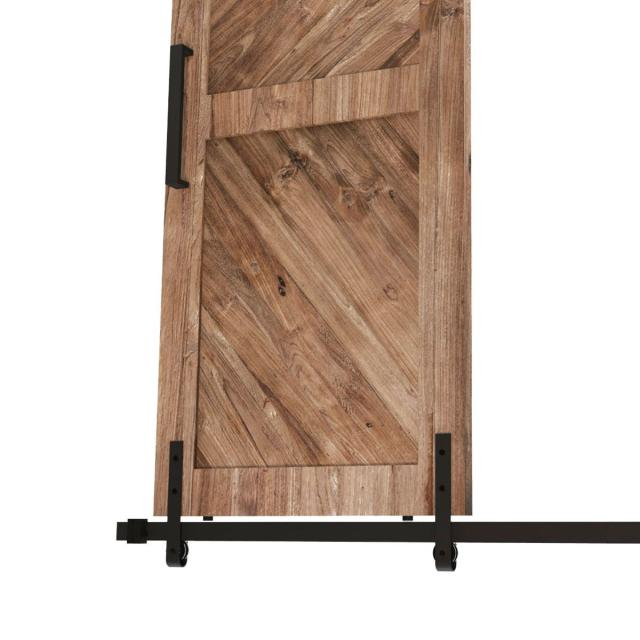door: (153, 1, 473, 521)
